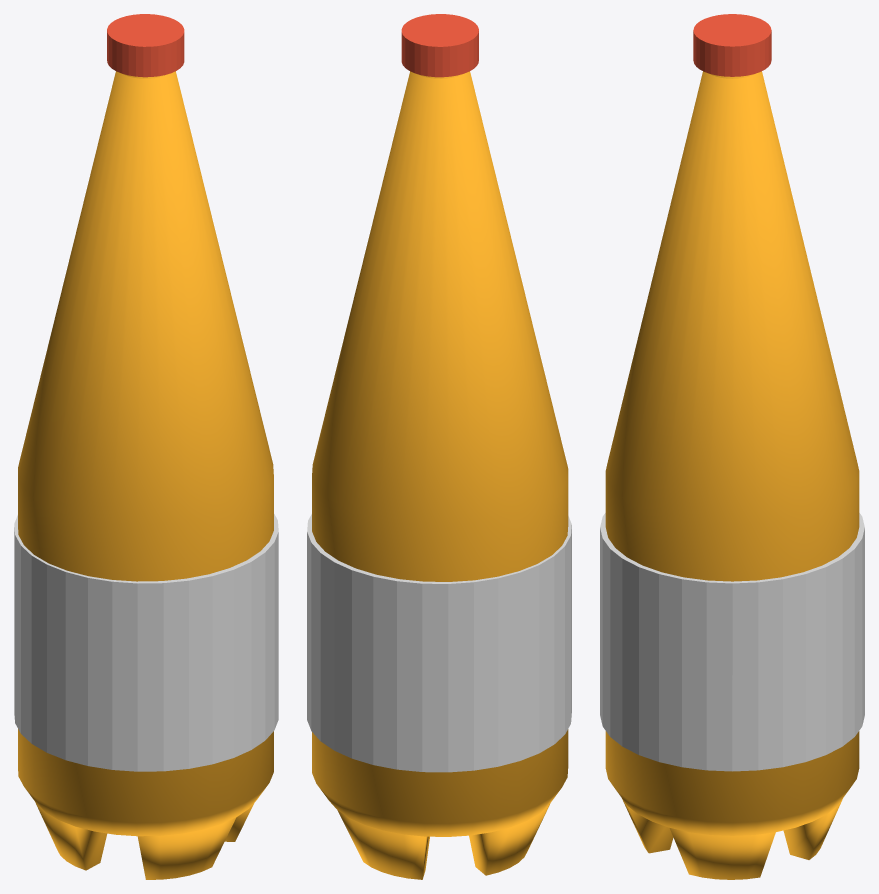
Rendered from krzys_piekny.fbx.
The picture shows the model from 3 angles, left to right: view 1: azimuth 30°, elevation 25°; view 2: azimuth 150°, elevation 25°; view 3: azimuth 270°, elevation 25°; orthographic projection.
Visible parts, largest first — view 1: Walec.001; view 2: Walec.001; view 3: Walec.001.
Part boxes in pixels (x1,y1,x2,y2): Walec.001: (14,14,278,879); Walec.001: (307,14,571,879); Walec.001: (600,14,864,879).
Bounding box in the file's own units: 184 × 621 × 184.
